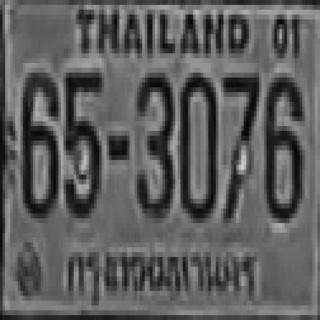N00: (178, 68, 216, 218)
N03: (135, 68, 173, 213)
N05: (62, 68, 100, 213)
N06: (262, 73, 300, 218), (20, 68, 56, 213)
N07: (222, 68, 258, 218)
P04: (61, 235, 259, 307)
